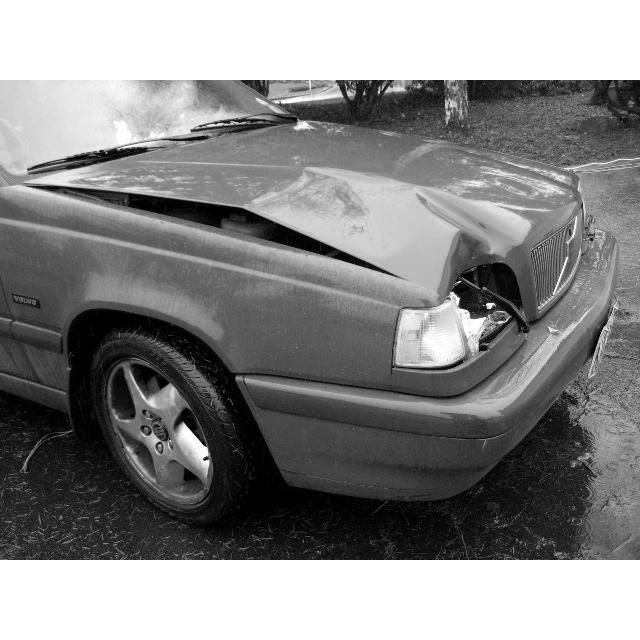Headlight-damage: (387, 278, 534, 371)
bonnet-dent: (157, 116, 555, 274)
